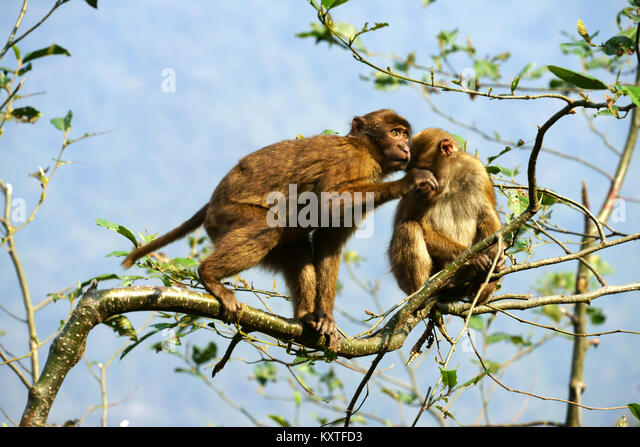monkey: (112, 75, 436, 360), (385, 125, 505, 328)
